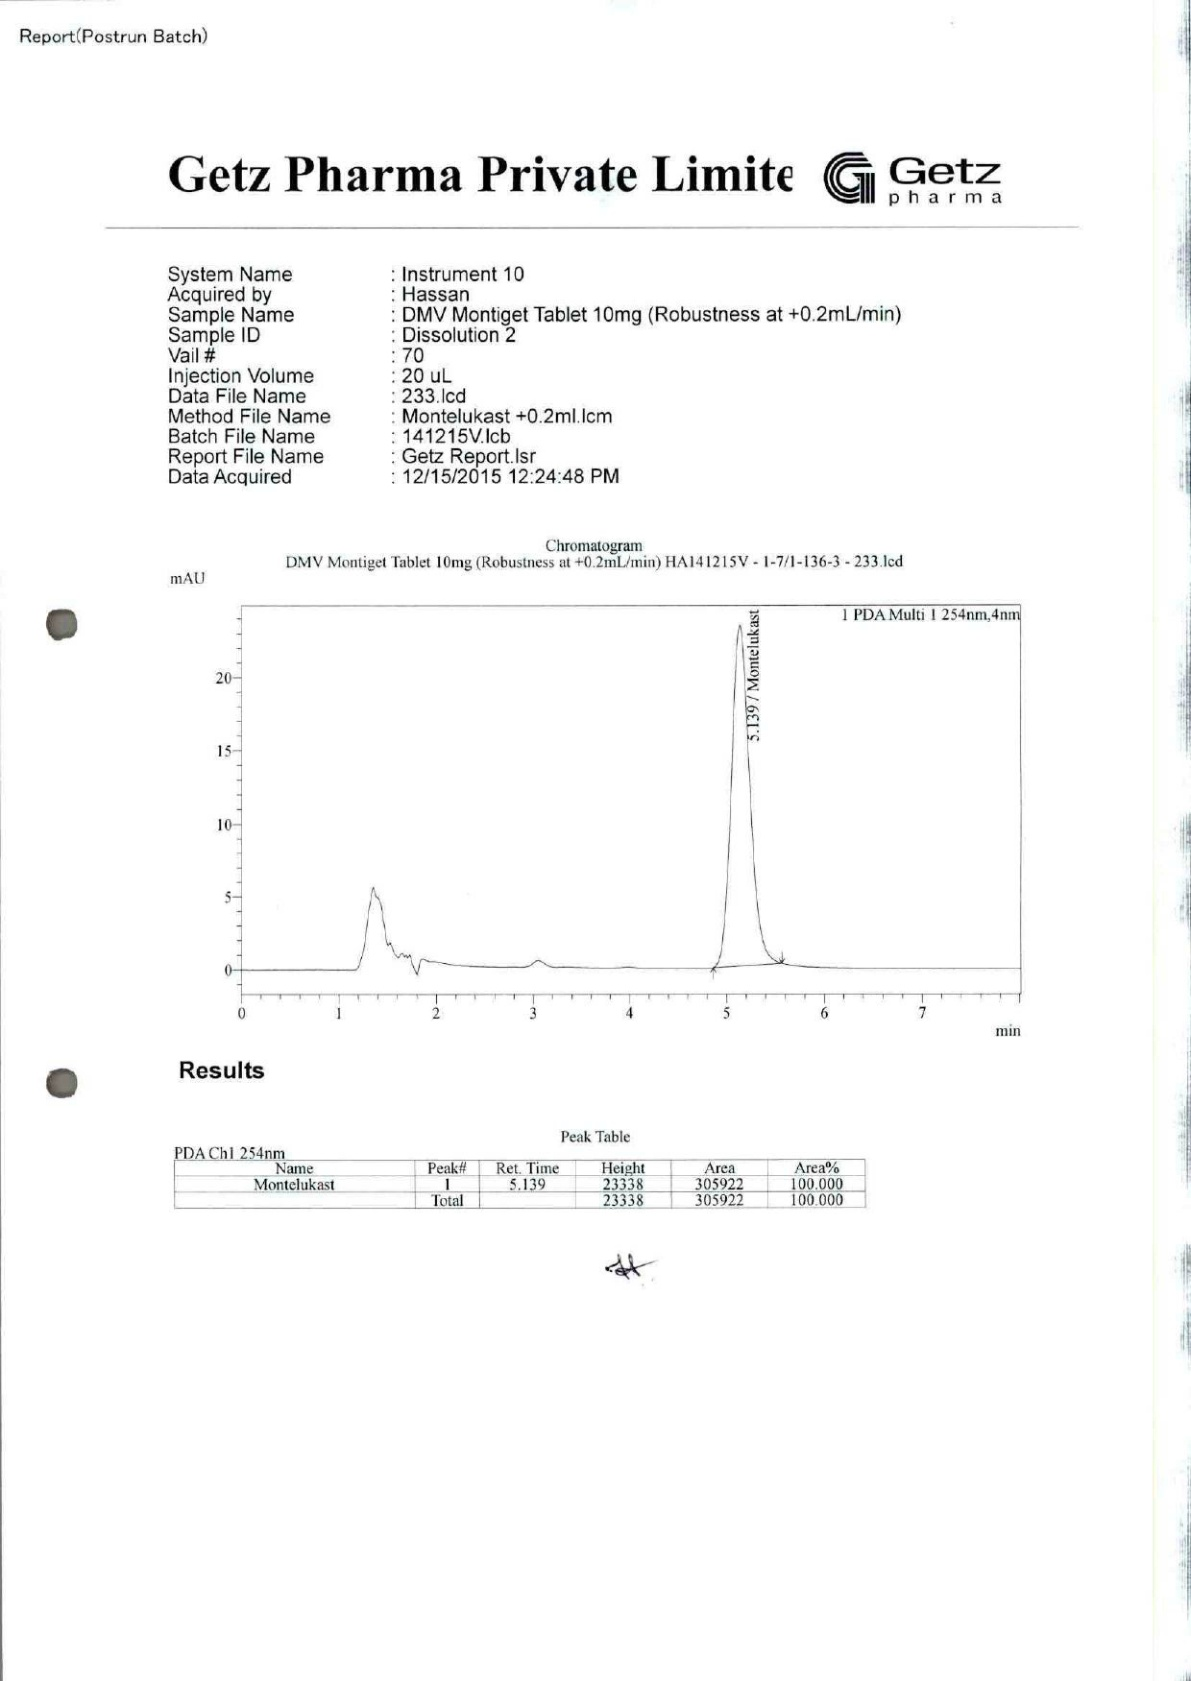full_lined: (173, 1158, 867, 1210)
nolines: (162, 263, 905, 489)
